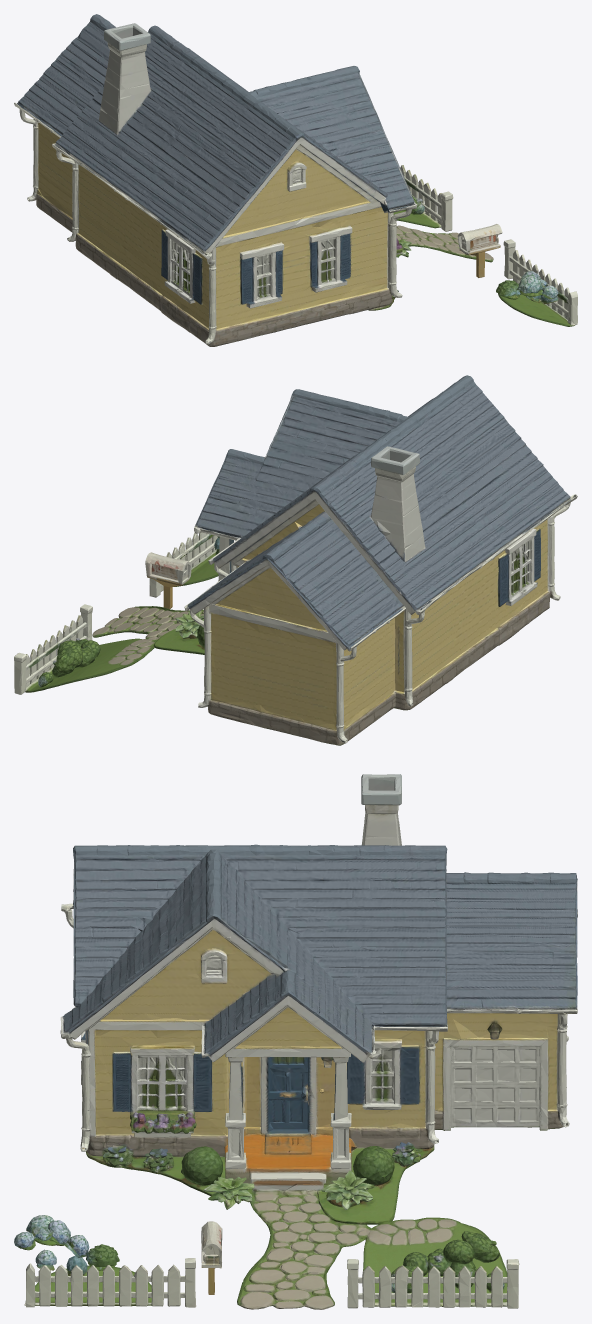
File: house_1storyE_yellow.glb
3 renders of one model, top to bottom at view 1: azimuth 30°, elevation 25°; view 2: azimuth 150°, elevation 25°; view 3: azimuth 270°, elevation 25°, orthographic. The views are drawn at different scales.
Parts seen in each view (by area): view 1: tripo_node_d6d8b100-c108-4d87-b831-d4765266b3d0; view 2: tripo_node_d6d8b100-c108-4d87-b831-d4765266b3d0; view 3: tripo_node_d6d8b100-c108-4d87-b831-d4765266b3d0.
Boxes of the visible parts, x1,y1,x2,y2 form: tripo_node_d6d8b100-c108-4d87-b831-d4765266b3d0: [14, 14, 577, 346]; tripo_node_d6d8b100-c108-4d87-b831-d4765266b3d0: [14, 375, 577, 745]; tripo_node_d6d8b100-c108-4d87-b831-d4765266b3d0: [14, 774, 577, 1309].
Size of the model in its own units: 0.9383 by 0.6549 by 1.
Materials: 1 (1 with a texture image).
